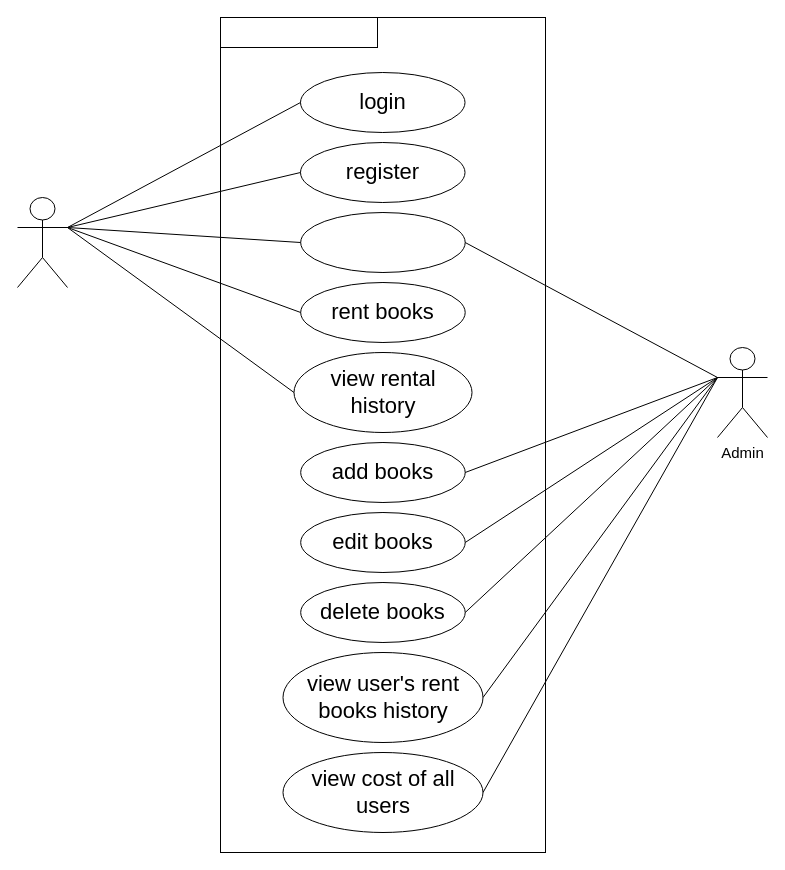
Some shapes in this 785 by 870 pixel diagram are drawn without their labels. The shapes that lost their labels are listed below. From the top down, each one's centre as x and y in pixels, then its label:
At (x=299, y=32): "E-Book Rent System".
At (x=42, y=242): "User".
At (x=382, y=242): "view books".
